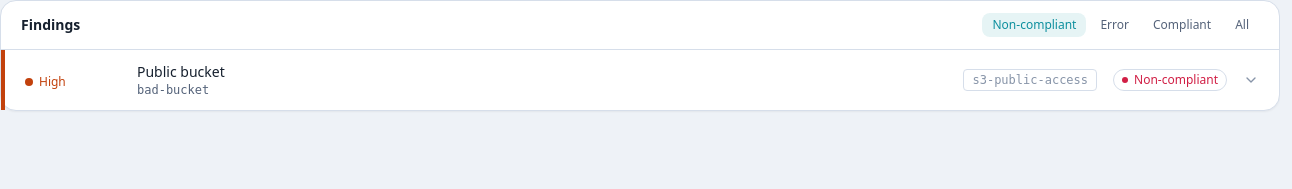
Scenario: FindingsList › shows all findings when the All filter is selected
The image size is (1292, 189).
Click the button "All": (1242, 25) [1225,13,1259,37]
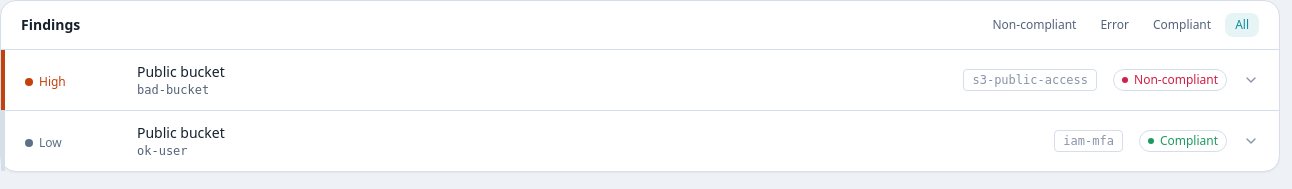
Expected: the text "bad-bucket" is shown, [137,83,209,97]
Result: the text "ok-user" is shown at [137,144,188,158]
